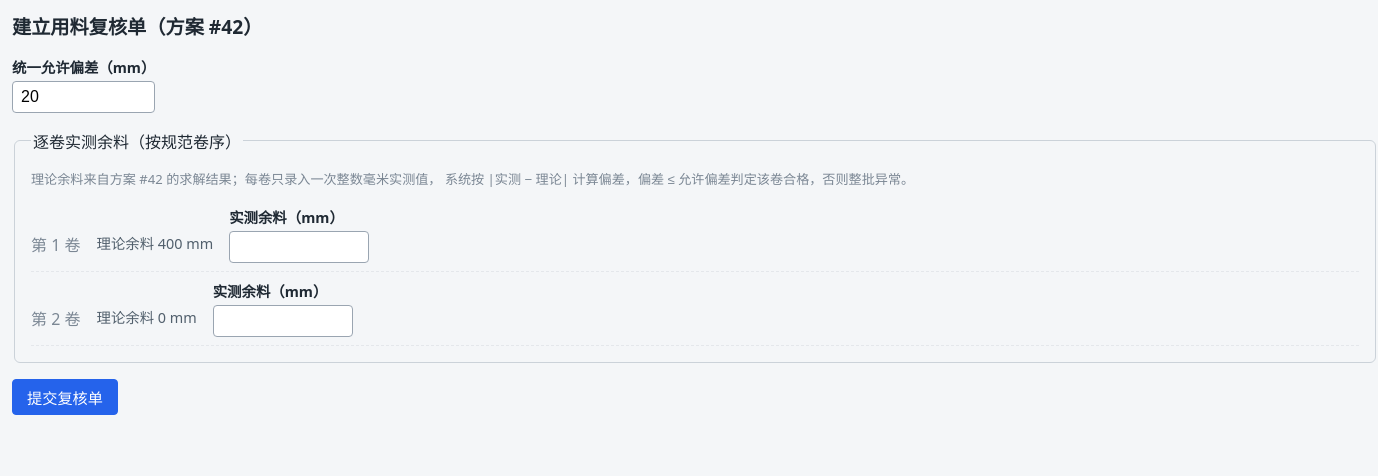
it: NewReviewSheetPage › maps 422 errors back to the fields and preserves every input
The width and height of the screenshot is (1378, 476).
Expected: the number field with test id "measured-roll-1" is shown, [229,231,369,263]
Replace the text in the number field with test id "tolerance" with "9999" at (84, 97), box [12,81,155,113]
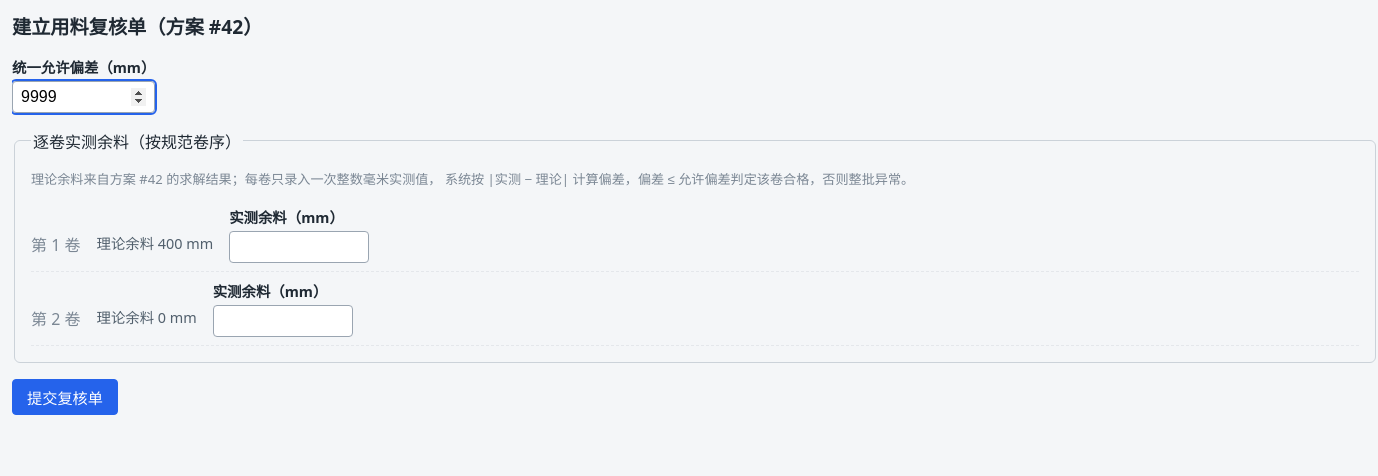
Type "380" into the number field with test id "measured-roll-1" at (299, 247), box [229,231,369,263]
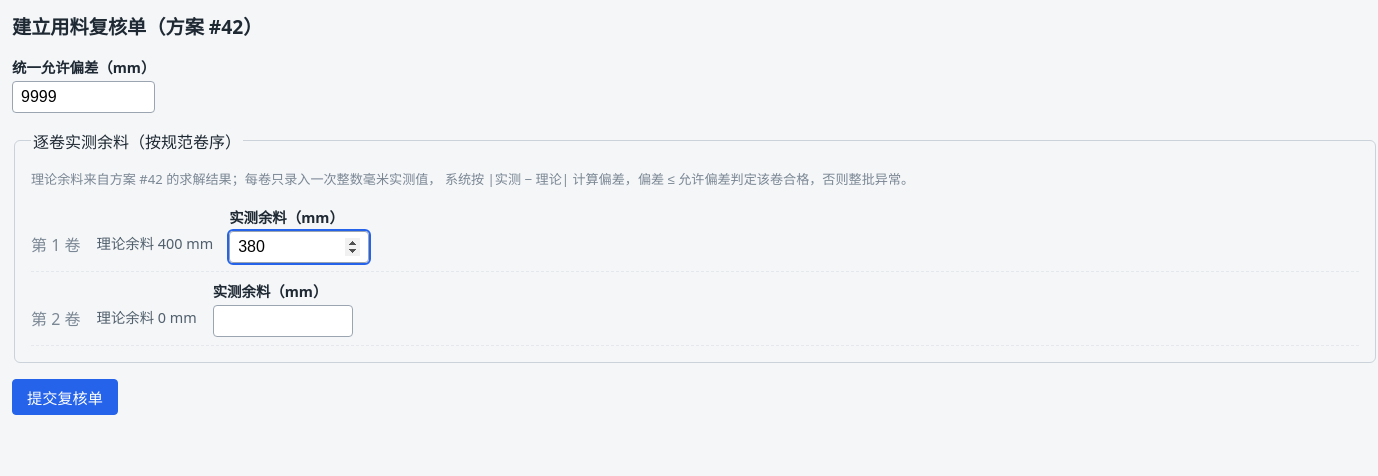
Type "20" into the number field with test id "measured-roll-2" at (283, 321), box [213,305,353,337]
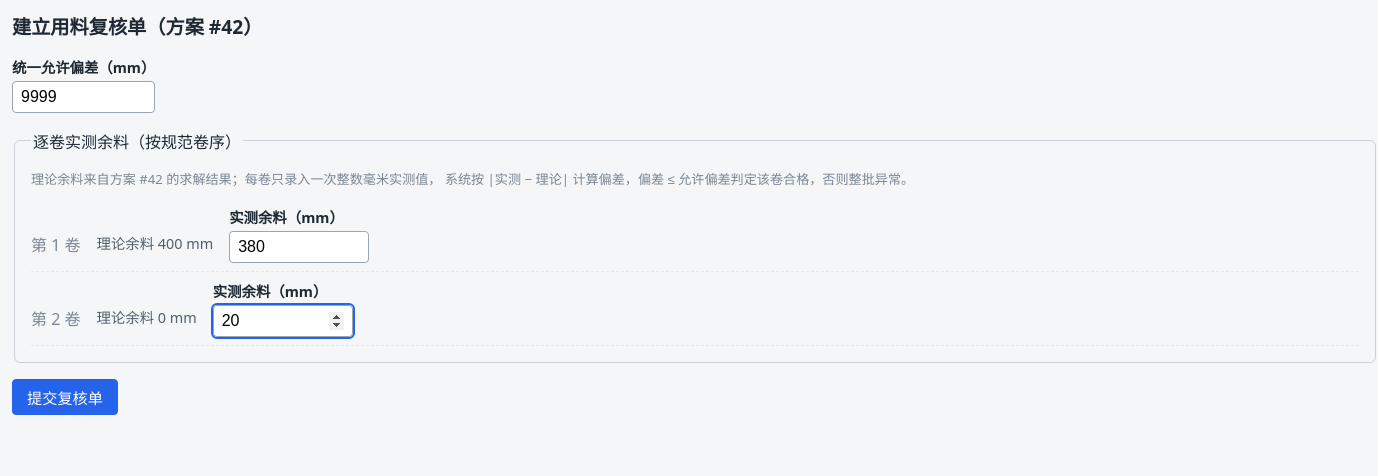
Click the button with test id "submit-review" at (65, 397), box [12,379,118,415]
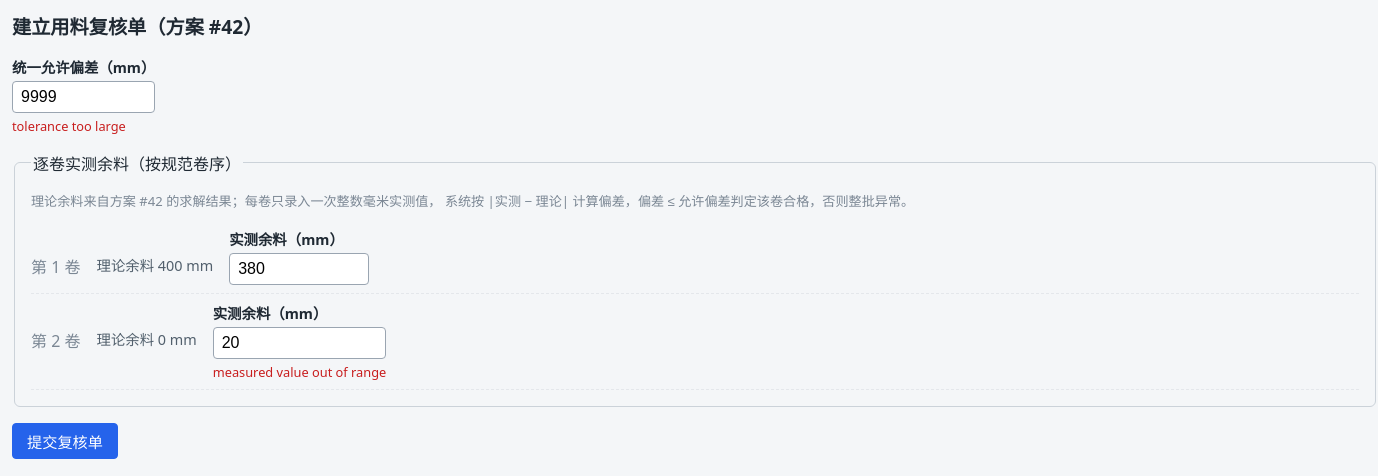
Expected: the text "tolerance too large" is shown, [12,117,126,135]
Expected: the text "measured value out of range" is shown, [213,363,386,381]
